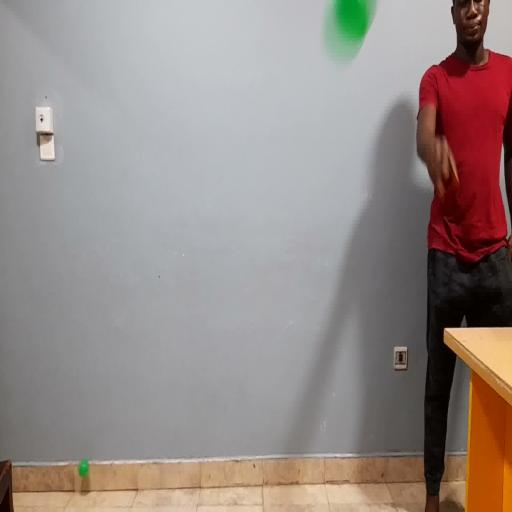plastic-ball: (319, 0, 380, 73)
